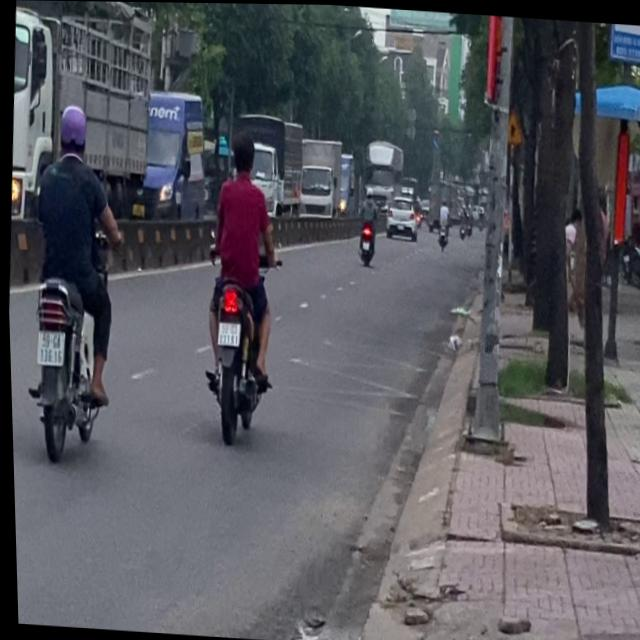helmet: (54, 103, 89, 158)
licenseplate: (11, 96, 130, 463), (189, 124, 287, 442)
motorcyclist: (228, 131, 257, 179)
nohelmet: (34, 331, 62, 365), (215, 321, 239, 345)
